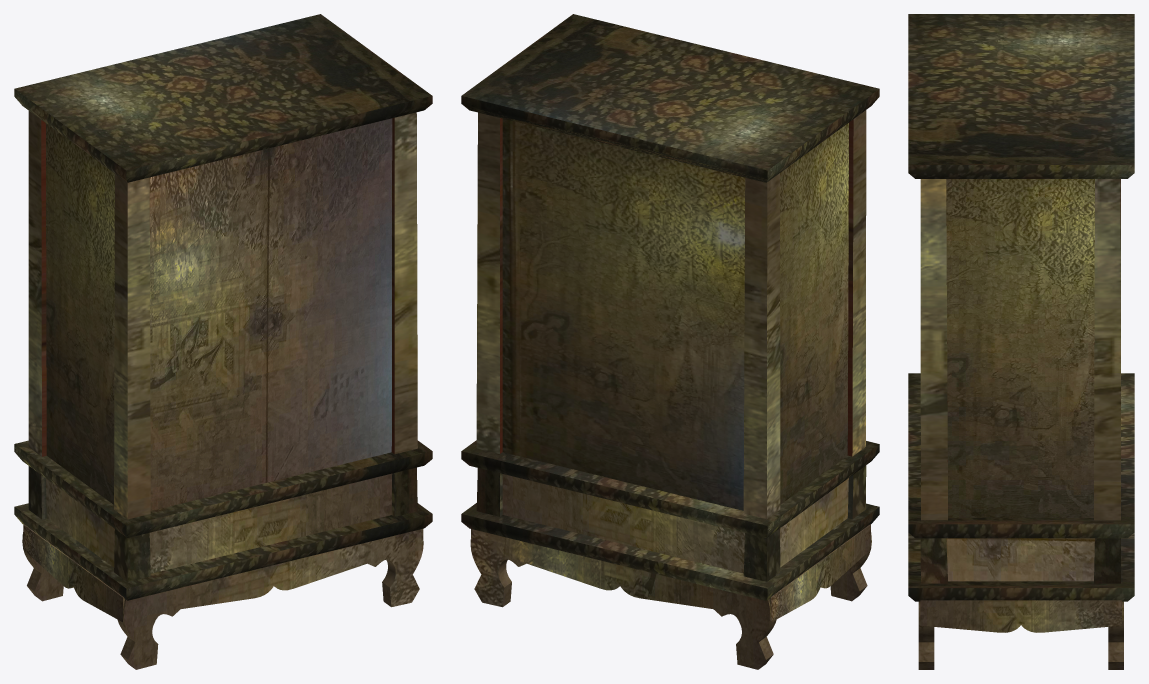
Rendered from carbinet_b.glb.
3 views of the same model, side by side, from view 1: azimuth 30°, elevation 25°; view 2: azimuth 150°, elevation 25°; view 3: azimuth 270°, elevation 25° (orthographic).
Parts seen in each view (by area): view 1: Box02, Box14, Box12, Shape02, Box03, Box13, Shape04, Shape03; view 2: Box02, Box14, Box12, Shape03, Box03, Box13, Shape04, Shape02; view 3: Box02, Box14, Box12, Box03, Shape05, Box13, Shape02, Shape03.
Boxes of the visible parts, x1,y1,x2,y2 form: Box02: (28, 111, 417, 519); Box14: (14, 14, 432, 182); Box12: (28, 466, 417, 581); Shape02: (117, 529, 423, 669); Box03: (14, 440, 432, 537); Box13: (14, 503, 432, 600); Shape04: (23, 524, 124, 622); Shape03: (22, 532, 63, 601); Box02: (476, 110, 866, 519); Box14: (461, 14, 879, 182); Box12: (476, 465, 866, 581); Shape03: (470, 529, 776, 669); Box03: (461, 440, 879, 538); Box13: (461, 503, 879, 600); Shape04: (769, 524, 870, 622); Shape02: (830, 532, 871, 601); Box02: (920, 179, 1120, 520); Box14: (908, 14, 1134, 178); Box12: (920, 538, 1120, 583); Box03: (908, 373, 1134, 538); Shape05: (920, 600, 1121, 632); Box13: (908, 533, 1134, 601); Shape02: (918, 601, 934, 669); Shape03: (1108, 601, 1123, 669).
Size of the model in its own units: 0.3478 by 0.5498 by 0.2199.
Materials: 10 (10 with a texture image).
